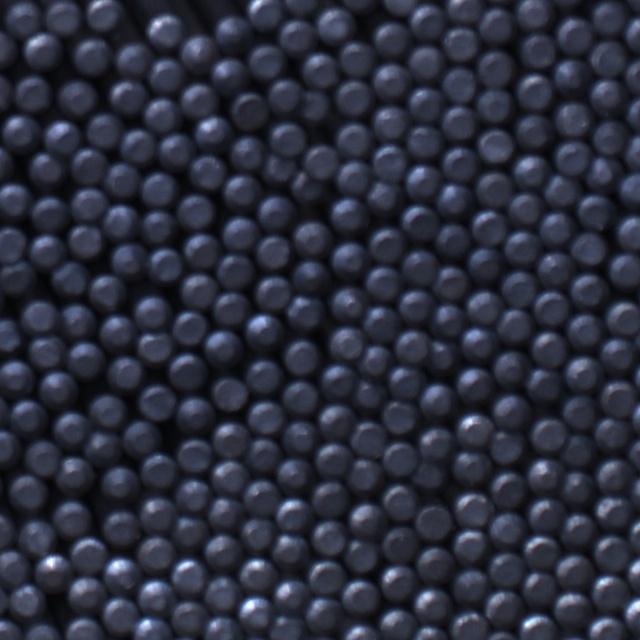tool: (72, 36, 114, 76), (56, 78, 98, 117), (458, 320, 496, 362), (370, 66, 414, 101), (1, 114, 40, 153), (23, 32, 62, 71), (56, 456, 95, 495), (315, 6, 355, 44), (238, 524, 282, 558), (168, 352, 207, 390), (11, 398, 49, 437), (230, 91, 269, 129), (176, 192, 215, 230), (66, 340, 105, 378), (178, 34, 217, 72), (104, 598, 141, 638), (194, 118, 235, 154), (388, 361, 422, 404), (54, 500, 92, 538), (36, 554, 74, 592), (270, 532, 308, 570), (348, 456, 386, 494), (7, 474, 46, 511), (5, 1, 44, 38), (41, 368, 80, 405), (179, 81, 218, 118), (203, 329, 242, 366), (108, 78, 147, 115), (408, 81, 438, 129), (15, 74, 52, 112), (138, 384, 176, 421), (86, 112, 124, 149), (477, 51, 515, 88), (90, 272, 128, 309), (244, 313, 282, 350), (147, 11, 185, 48), (27, 151, 65, 188), (485, 588, 522, 626), (44, 118, 83, 154), (453, 490, 492, 526), (16, 521, 53, 558), (71, 146, 108, 183), (476, 170, 513, 207), (247, 43, 284, 80), (417, 546, 454, 583), (113, 41, 150, 78), (28, 232, 66, 268), (415, 504, 453, 540), (277, 18, 315, 54), (409, 0, 445, 38), (300, 52, 338, 88), (53, 410, 89, 448), (145, 95, 183, 131), (588, 40, 626, 76), (30, 196, 68, 232), (84, 430, 122, 466), (490, 470, 526, 508), (223, 172, 261, 208), (101, 316, 137, 354), (331, 196, 369, 232), (294, 220, 332, 256), (134, 292, 172, 328), (284, 292, 322, 328), (292, 254, 328, 292), (50, 262, 90, 296), (594, 450, 628, 490), (408, 158, 442, 198), (556, 16, 592, 53), (190, 153, 227, 189), (121, 127, 158, 163), (124, 419, 160, 456), (181, 270, 218, 306), (578, 193, 614, 230), (341, 579, 378, 615), (72, 534, 109, 570), (144, 248, 181, 284), (183, 232, 220, 268), (478, 5, 514, 42), (11, 582, 47, 619), (529, 416, 566, 452), (159, 132, 195, 169), (178, 396, 215, 432), (334, 80, 371, 116), (563, 354, 600, 390), (455, 366, 492, 402), (212, 421, 248, 458), (592, 574, 629, 610), (103, 509, 140, 545), (372, 20, 409, 56), (106, 557, 142, 594), (294, 170, 330, 207), (590, 81, 626, 118), (45, 1, 83, 36), (401, 204, 439, 239), (237, 596, 272, 634), (260, 152, 298, 187), (412, 586, 451, 620), (25, 439, 61, 475), (601, 379, 637, 415), (381, 484, 417, 520), (110, 243, 146, 279), (472, 210, 508, 246), (350, 420, 386, 456), (516, 72, 552, 108), (140, 452, 176, 488), (138, 536, 174, 572), (317, 404, 353, 440), (146, 57, 182, 93), (210, 56, 246, 92), (553, 57, 589, 93), (556, 552, 592, 588), (270, 120, 307, 155), (476, 127, 513, 162), (258, 195, 295, 230), (311, 481, 348, 516), (171, 557, 206, 594), (371, 144, 406, 181), (594, 121, 631, 156), (0, 359, 34, 397), (90, 392, 128, 426), (454, 412, 492, 446), (524, 367, 562, 401), (103, 466, 141, 500), (308, 600, 342, 638), (436, 182, 474, 216), (276, 496, 308, 536), (0, 260, 36, 295), (67, 224, 103, 259), (303, 144, 339, 179), (554, 141, 590, 176), (441, 144, 476, 180), (140, 173, 176, 208), (532, 332, 567, 368), (443, 24, 479, 59), (174, 602, 209, 638), (532, 290, 568, 325), (369, 227, 405, 262), (568, 312, 604, 347), (102, 203, 138, 238), (335, 122, 371, 157), (216, 254, 252, 289), (139, 207, 175, 242), (139, 576, 174, 612), (320, 363, 356, 398), (60, 303, 96, 338), (502, 271, 538, 306), (332, 240, 367, 276), (223, 214, 260, 248), (555, 103, 592, 137), (529, 496, 566, 530), (595, 536, 632, 570), (544, 172, 582, 205), (202, 530, 235, 568), (106, 162, 141, 197), (313, 519, 348, 554), (211, 458, 246, 493), (452, 527, 487, 562), (403, 248, 438, 283), (352, 377, 387, 412), (255, 275, 291, 309), (211, 376, 247, 410), (172, 309, 208, 343), (284, 338, 318, 374), (106, 354, 142, 388), (247, 400, 283, 434), (569, 272, 605, 306), (365, 265, 401, 299), (492, 394, 528, 428), (489, 552, 525, 586), (214, 290, 250, 324), (140, 497, 174, 533), (600, 336, 636, 370), (136, 330, 172, 364), (308, 558, 344, 592), (503, 228, 539, 262), (516, 114, 552, 148), (28, 334, 65, 367), (590, 0, 627, 33), (70, 186, 107, 219), (488, 512, 525, 545), (441, 66, 475, 101), (519, 32, 554, 66), (382, 440, 417, 474), (176, 437, 211, 471), (465, 288, 500, 322), (340, 39, 374, 74), (433, 266, 468, 300), (380, 564, 415, 598), (268, 79, 302, 114), (441, 104, 475, 139), (394, 329, 428, 364), (363, 306, 398, 340), (336, 159, 370, 194), (562, 512, 596, 547), (408, 44, 443, 78), (22, 300, 58, 333), (332, 284, 365, 320), (525, 536, 562, 568), (476, 89, 513, 121), (210, 500, 247, 532), (450, 609, 488, 640), (514, 0, 554, 29), (244, 0, 284, 29), (256, 234, 290, 268), (282, 380, 316, 414), (345, 538, 379, 572), (490, 429, 524, 463), (382, 526, 416, 560), (246, 357, 280, 391), (315, 442, 349, 476), (175, 477, 209, 511), (607, 300, 640, 335), (516, 152, 551, 185), (498, 309, 533, 342), (407, 125, 442, 158), (608, 253, 640, 289), (381, 400, 417, 432), (570, 232, 606, 264), (594, 496, 626, 532), (354, 502, 386, 538), (0, 549, 31, 586), (540, 211, 574, 244), (418, 426, 452, 459), (276, 456, 310, 489), (376, 106, 409, 140), (0, 180, 30, 217), (66, 582, 103, 612), (517, 612, 556, 640), (85, 0, 124, 28), (436, 296, 462, 338), (332, 327, 365, 360), (437, 224, 470, 257), (509, 192, 542, 225), (466, 246, 499, 279), (399, 289, 433, 321), (454, 571, 488, 603), (554, 589, 586, 623), (377, 609, 412, 640), (268, 609, 303, 640), (562, 394, 594, 427), (282, 420, 315, 452), (524, 572, 556, 605), (366, 180, 400, 211), (220, 16, 248, 53), (366, 344, 396, 378), (298, 87, 328, 121), (230, 140, 266, 168), (133, 615, 173, 640), (587, 615, 626, 640), (0, 225, 26, 262), (426, 378, 450, 418), (566, 470, 598, 500), (528, 460, 560, 490), (203, 616, 242, 640), (422, 464, 453, 494), (276, 575, 304, 608), (426, 337, 454, 370), (458, 452, 488, 482), (65, 616, 102, 640), (496, 355, 524, 386), (252, 480, 276, 516), (178, 523, 207, 552), (207, 578, 234, 609), (0, 429, 21, 468), (447, 0, 486, 21), (0, 315, 22, 351), (602, 418, 626, 451), (619, 213, 640, 249), (620, 170, 640, 207), (244, 561, 268, 591), (0, 28, 18, 66), (0, 510, 17, 550), (570, 440, 594, 468), (624, 131, 640, 171), (340, 624, 379, 640), (252, 442, 276, 468), (408, 625, 449, 640), (25, 623, 61, 640), (382, 0, 421, 15), (0, 143, 15, 182), (625, 56, 640, 94), (340, 0, 381, 13), (284, 0, 324, 13), (626, 14, 640, 51), (627, 552, 640, 591), (0, 619, 24, 640), (0, 73, 12, 115), (626, 93, 640, 129), (625, 600, 640, 631), (627, 437, 640, 471), (483, 629, 519, 640), (0, 391, 9, 430), (0, 580, 9, 619), (632, 400, 640, 435)
